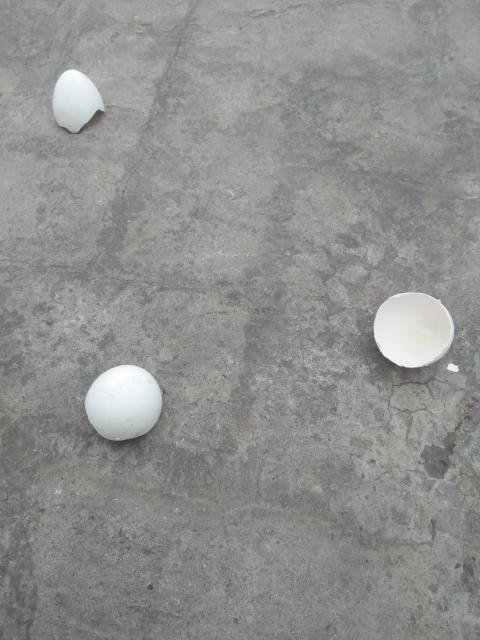Roto: (375, 290, 455, 369), (84, 364, 163, 442), (51, 68, 106, 134)
